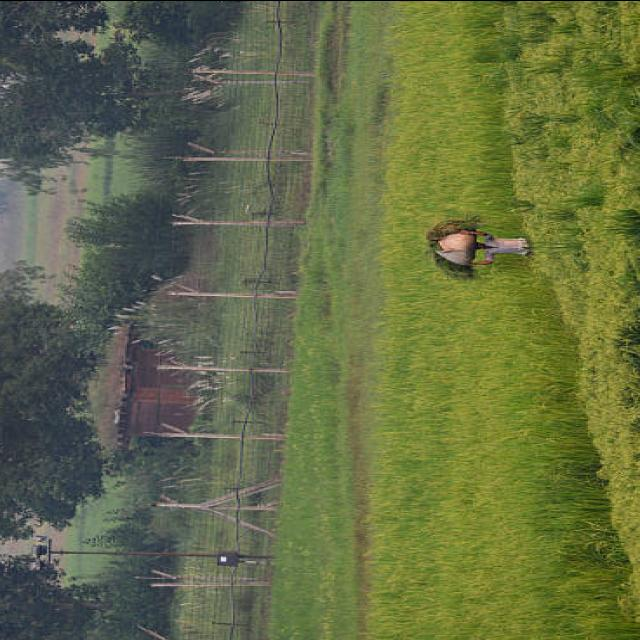civilian: (459, 228, 527, 264)
